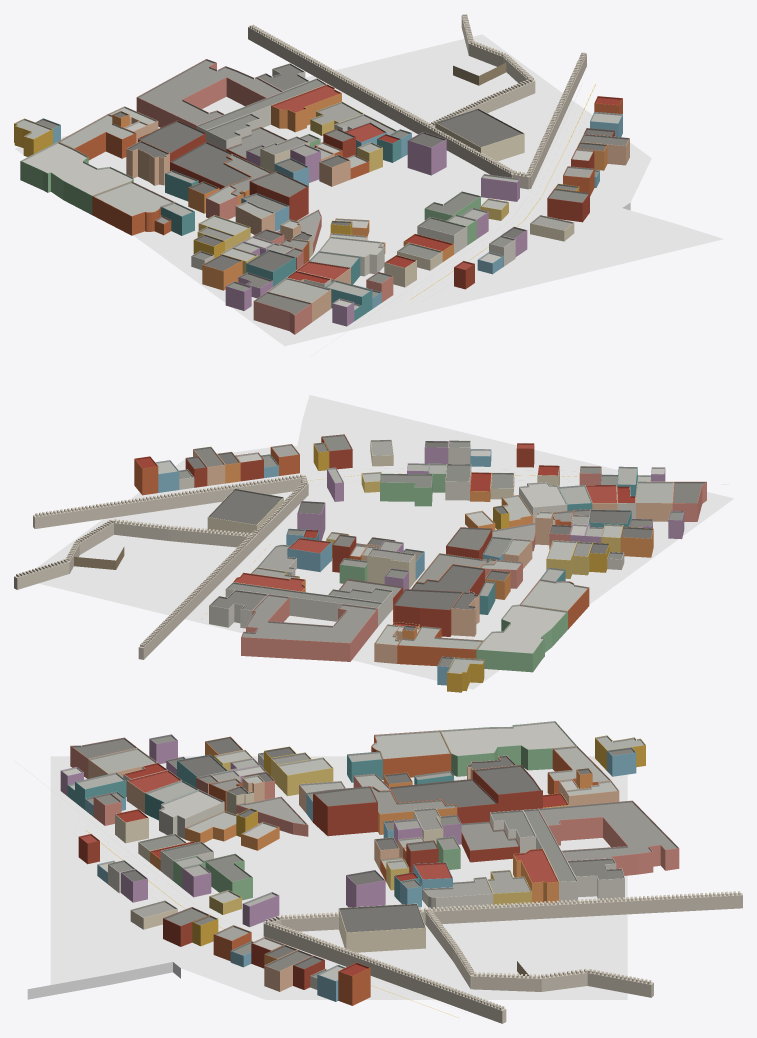
3 views of the same model, one above another, from view 1: azimuth 30°, elevation 25°; view 2: azimuth 150°, elevation 25°; view 3: azimuth 270°, elevation 25° (orthographic). The views are drawn at different scales.
Parts seen in each view (by area): view 1: roofs, walls, plaza, stone, asphalt, pavers, concrete; view 2: roofs, walls, plaza, stone, asphalt, pavers; view 3: roofs, walls, plaza, stone, asphalt, coast, pavers.
Boxes of the visible parts, x1,y1,x2,y2 form: roofs: (14,59,629,315); walls: (14,63,629,334); plaza: (15,34,723,346); stone: (248,14,586,189); asphalt: (244,79,632,330); pavers: (193,155,407,282); concrete: (309,156,528,340); roofs: (134,434,706,673); walls: (74,437,706,692); plaza: (34,395,733,689); stone: (14,474,308,659); asphalt: (130,416,699,623); pavers: (263,538,650,676); roofs: (61,721,678,981); walls: (60,725,679,1005); plaza: (50,756,627,999); stone: (263,891,742,1023); asphalt: (50,789,431,999); coast: (27,962,180,999); pavers: (275,756,627,905).
Size of what is drawn, in the model's own units: 289 by 19.15 by 316.
